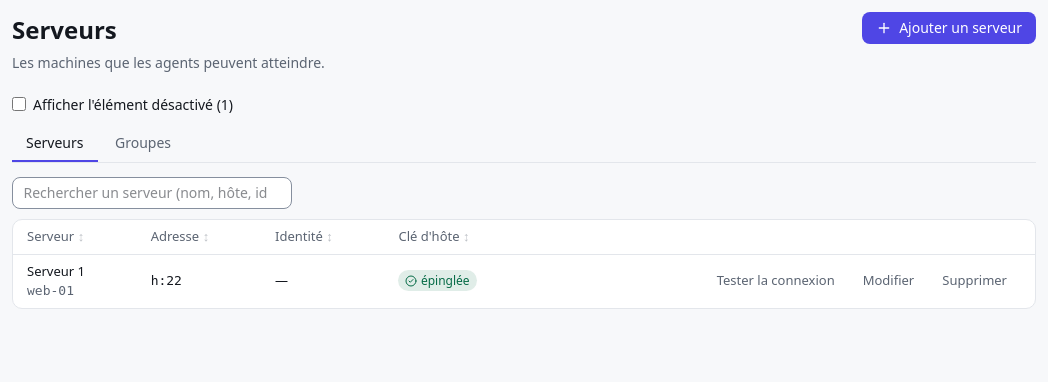
Test: les éléments inactifs ne sont jamais proposés › serveurs désactivés masqués par défaut
Expected: the text "web-01" is shown, [27,283,74,298]
Expected: the text "old-01" is not shown
Click the checkbox labelled "Afficher l'élément désactivé (1)".
click(19, 104)  # box [12,97,26,111]
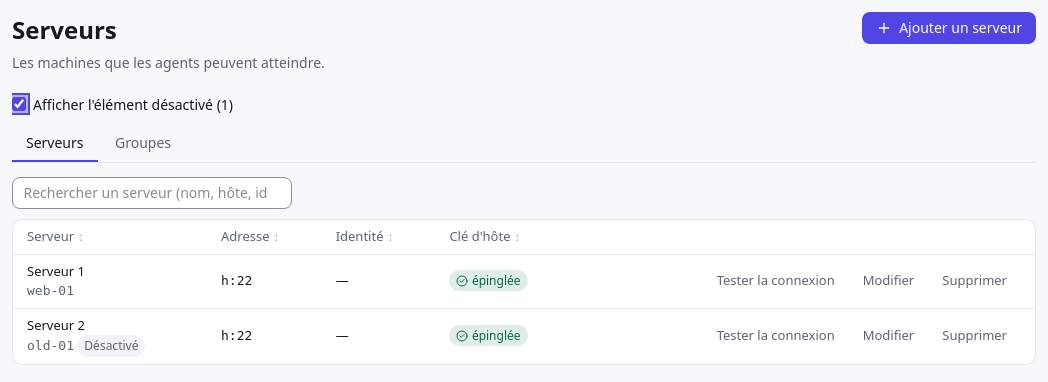
Now the text "old-01" is shown, box [27,338,74,353]
